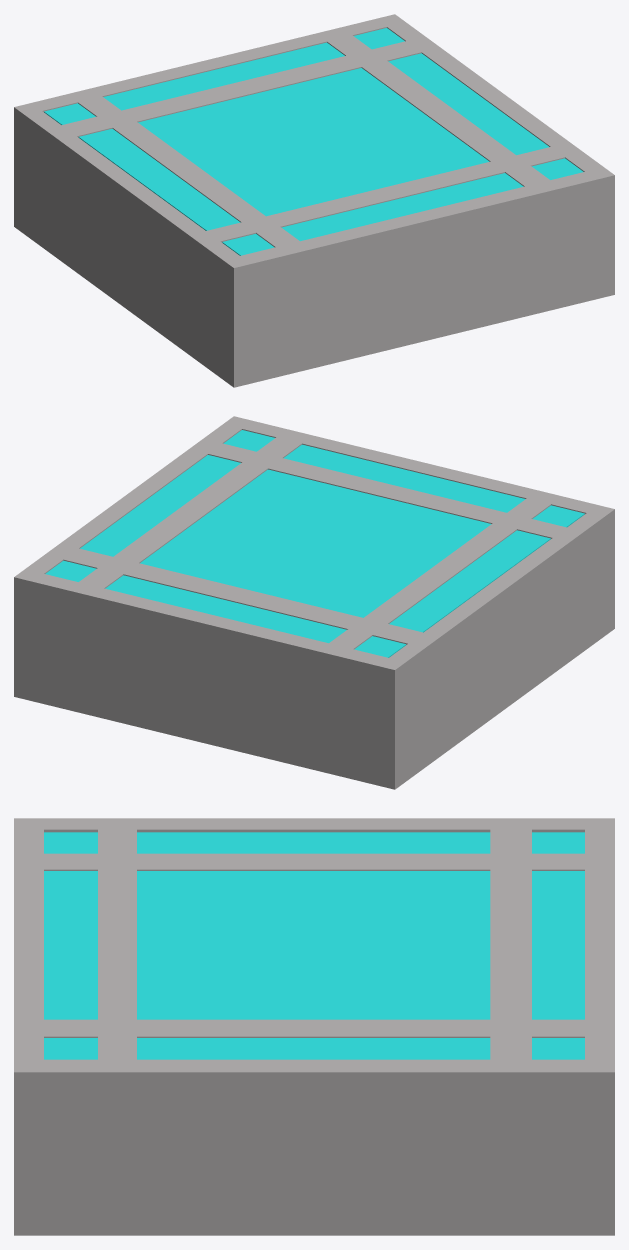
File: Base Tile 2 Blue.fbx
3 renders of one model, top to bottom at view 1: azimuth 30°, elevation 25°; view 2: azimuth 150°, elevation 25°; view 3: azimuth 270°, elevation 25°, orthographic. The views are drawn at different scales.
Visible parts, largest first — view 1: Base Tile, Color 2; view 2: Base Tile, Color 2; view 3: Base Tile, Color 2.
Boxes of the visible parts, x1,y1,x2,y2 form: Base Tile: (14, 14, 614, 387); Color 2: (44, 28, 583, 255); Base Tile: (14, 416, 614, 789); Color 2: (45, 430, 584, 657); Base Tile: (14, 818, 614, 1235); Color 2: (44, 832, 584, 1059).
Size of the model in its own units: 200 by 60 by 200.
